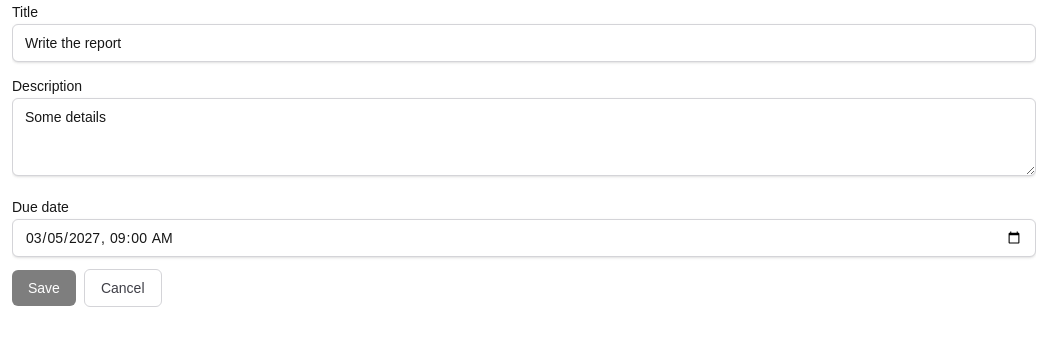
EditTaskForm › title rule (AC-2.1a, AC-2.2a, AC-2.2b, AC-2.2c) › refuses an empty title
Step 1. Clear the field labelled "Title" → (524, 43), box [12, 24, 1036, 62]
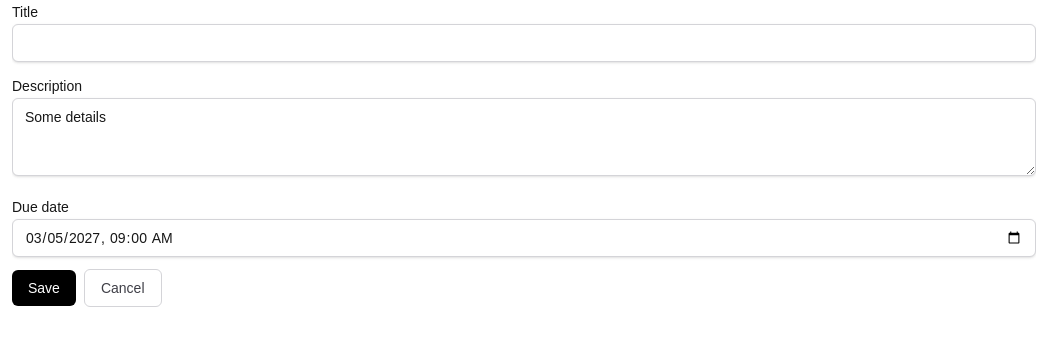
Step 2. Click the button "Save" → (44, 288), box [12, 270, 76, 306]
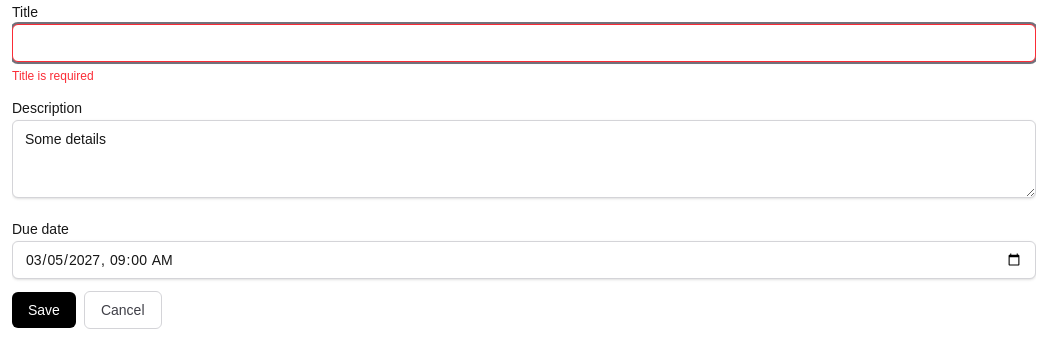
Check: the text "Title is required" is shown, box [12, 69, 94, 83]
